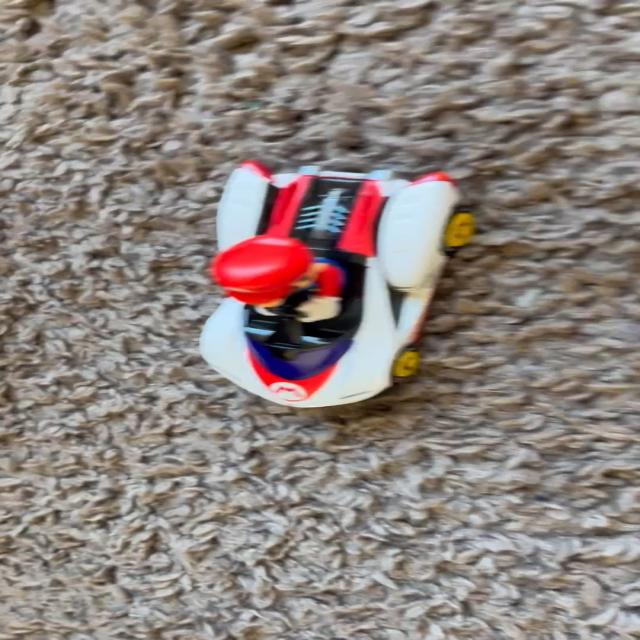mario: (180, 158, 487, 414)
